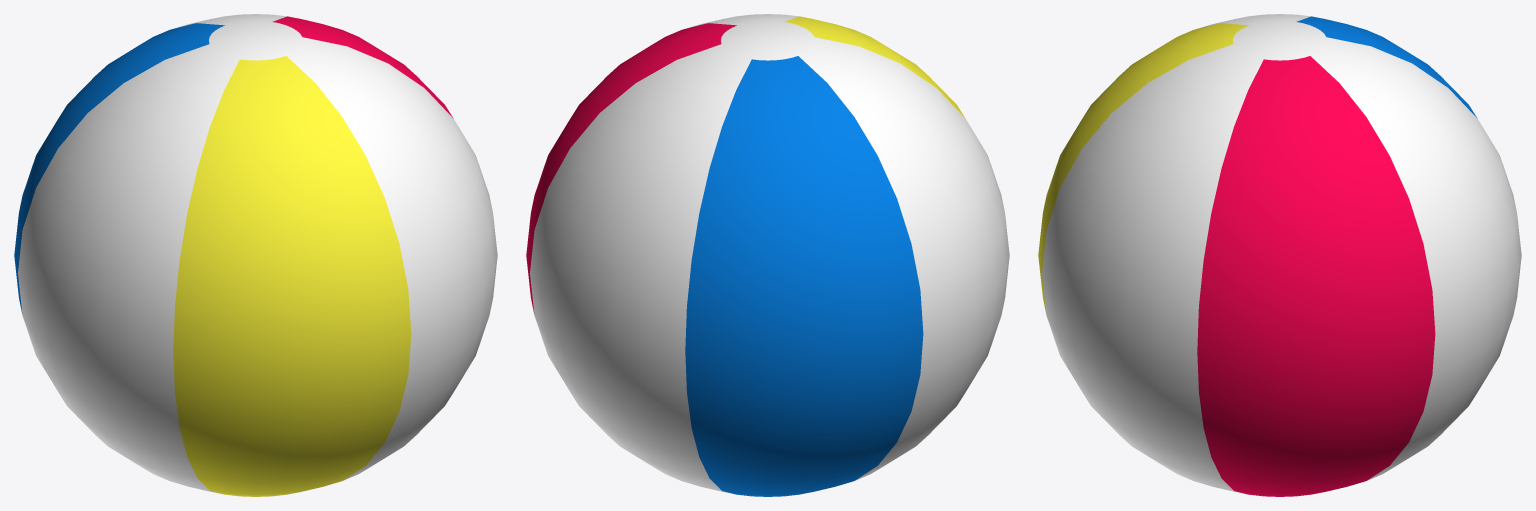
Rendered from Beach Ball.fbx.
3 renders of one model, left to right at view 1: azimuth 30°, elevation 25°; view 2: azimuth 150°, elevation 25°; view 3: azimuth 270°, elevation 25°, orthographic.
Parts seen in each view (by area): view 1: Sphere; view 2: Sphere; view 3: Sphere.
Boxes of the visible parts, bbox=[...] form: Sphere: bbox=[14, 14, 497, 496]; Sphere: bbox=[526, 14, 1009, 496]; Sphere: bbox=[1038, 14, 1521, 496].
Bounding box in the file's own units: 30 × 30 × 30.
